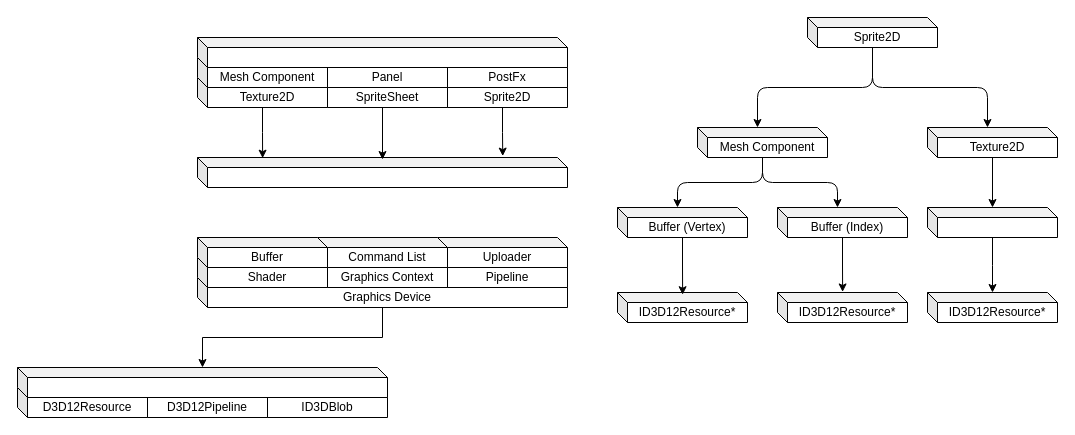
The diagram is 1075 pixels wide and 435 high, and some of its shapes have lost their labels. The box of each missing label's shape, as (x1, y1, x2, y2) in pixels:
DirectX 12: (16, 366, 388, 398)
Higher Level Components: (196, 36, 568, 68)
Render API: (196, 156, 568, 188)
Texture: (926, 206, 1058, 238)
